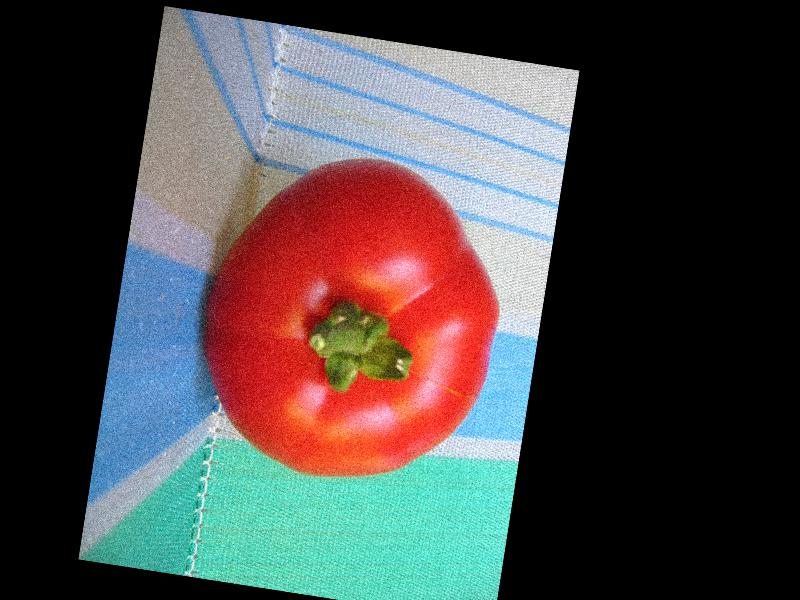Tomato: (182, 139, 519, 499)
